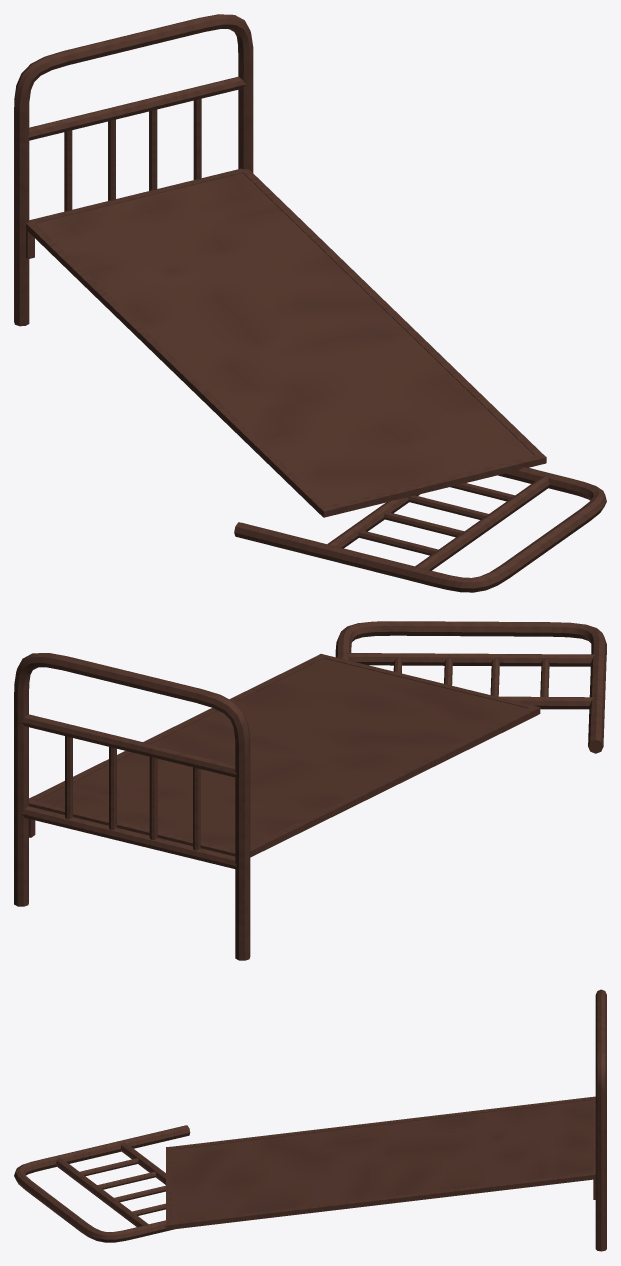
The model's file is BrokenBed2.fbx.
3 views of the same model, one above another, from view 1: azimuth 30°, elevation 25°; view 2: azimuth 150°, elevation 25°; view 3: azimuth 270°, elevation 25° (orthographic). The views are drawn at different scales.
Visible parts, largest first — view 1: Cube.031; view 2: Cube.031; view 3: Cube.031.
Part boxes in pixels (left/top/right/bottom): Cube.031: left=14, top=14, right=606, bottom=592; Cube.031: left=14, top=621, right=606, bottom=960; Cube.031: left=14, top=989, right=606, bottom=1251.
Bounding box in the file's own units: 182 × 144 × 410.
